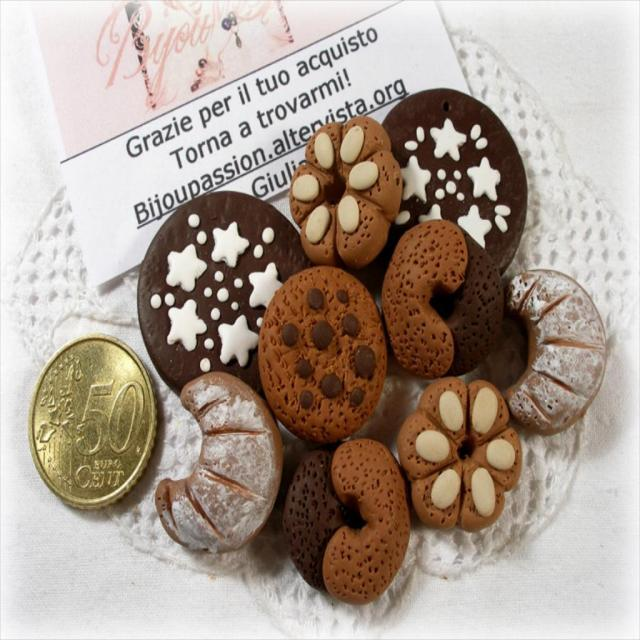Cookie: (136, 87, 607, 611), (256, 266, 394, 445)
